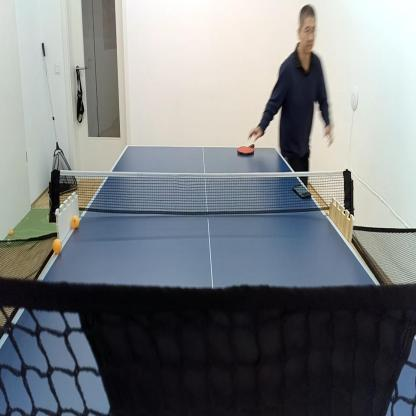Ball: (52, 238, 62, 254), (71, 216, 80, 228), (7, 237, 10, 246), (9, 229, 13, 234)
